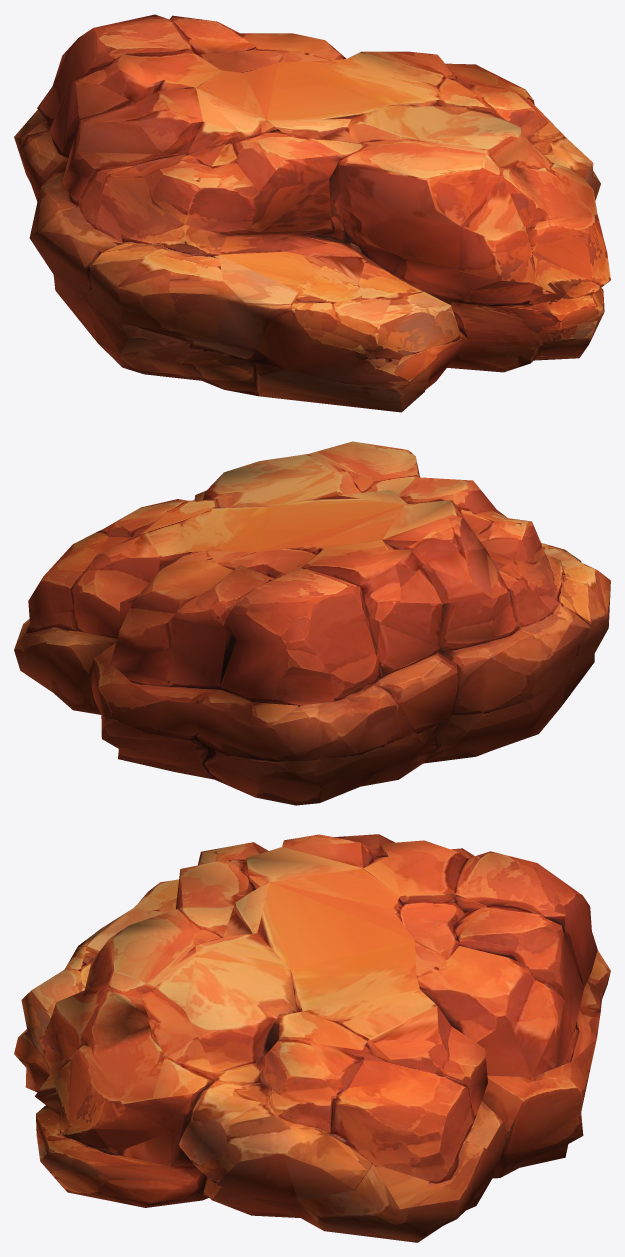
Rendered from rockF.glb.
The picture shows the model from 3 angles, top to bottom: view 1: azimuth 30°, elevation 25°; view 2: azimuth 150°, elevation 25°; view 3: azimuth 270°, elevation 25°; orthographic projection. The views are drawn at different scales.
Parts seen in each view (by area): view 1: RedRockKitF; view 2: RedRockKitF; view 3: RedRockKitF.
Boxes of the visible parts, x1=… form: RedRockKitF: x1=14, y1=14, x2=610, y2=412; RedRockKitF: x1=14, y1=441, x2=610, y2=805; RedRockKitF: x1=14, y1=834, x2=610, y2=1242.
Size of the model in its own units: 4.25 by 1.7 by 4.16.
Materials: 1 (1 with a texture image).
